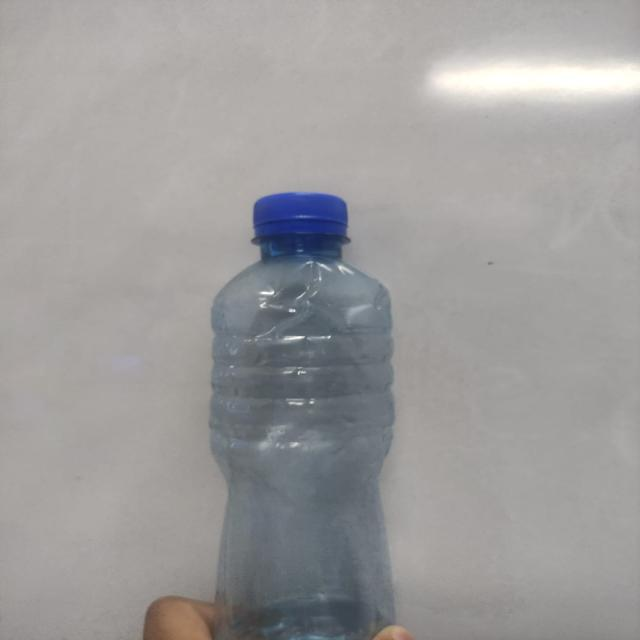bottle: (200, 190, 404, 595)
cap: (244, 192, 353, 252)
